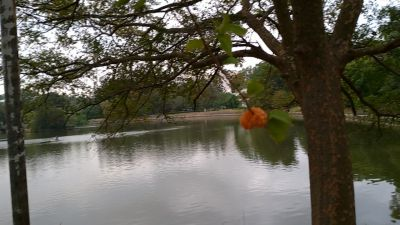eggs: (240, 106, 268, 131)
